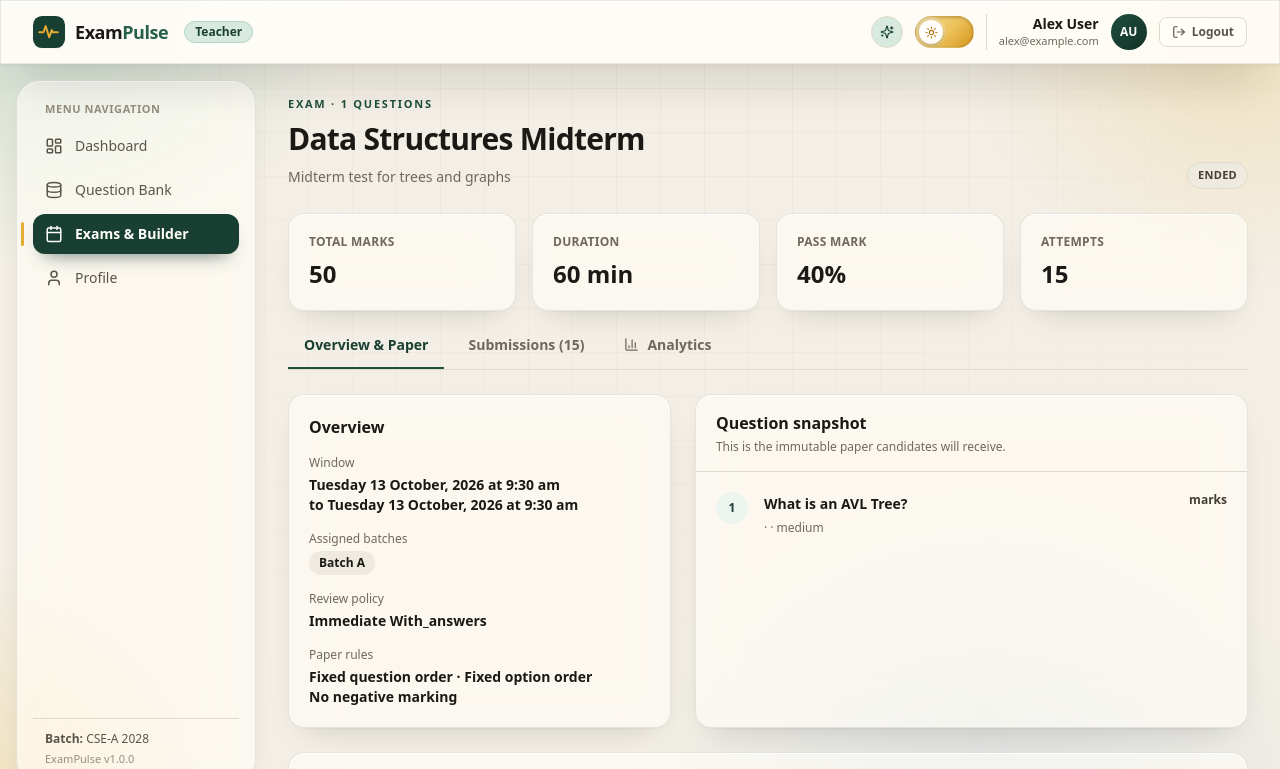
Test: Phase 9: Analytics Dashboards Frontend › 5. ExamDetailPage renders Analytics tab with score distribution, pass rate donut, and question stats
expect the heading "Data Structures Midterm" is shown: met, box 288,120 -> 645,156
Note: Click Analytics tab
Step 1. Click the button "Analytics" → x=668, y=352, box 608,334 -> 728,368
(page scrolled)
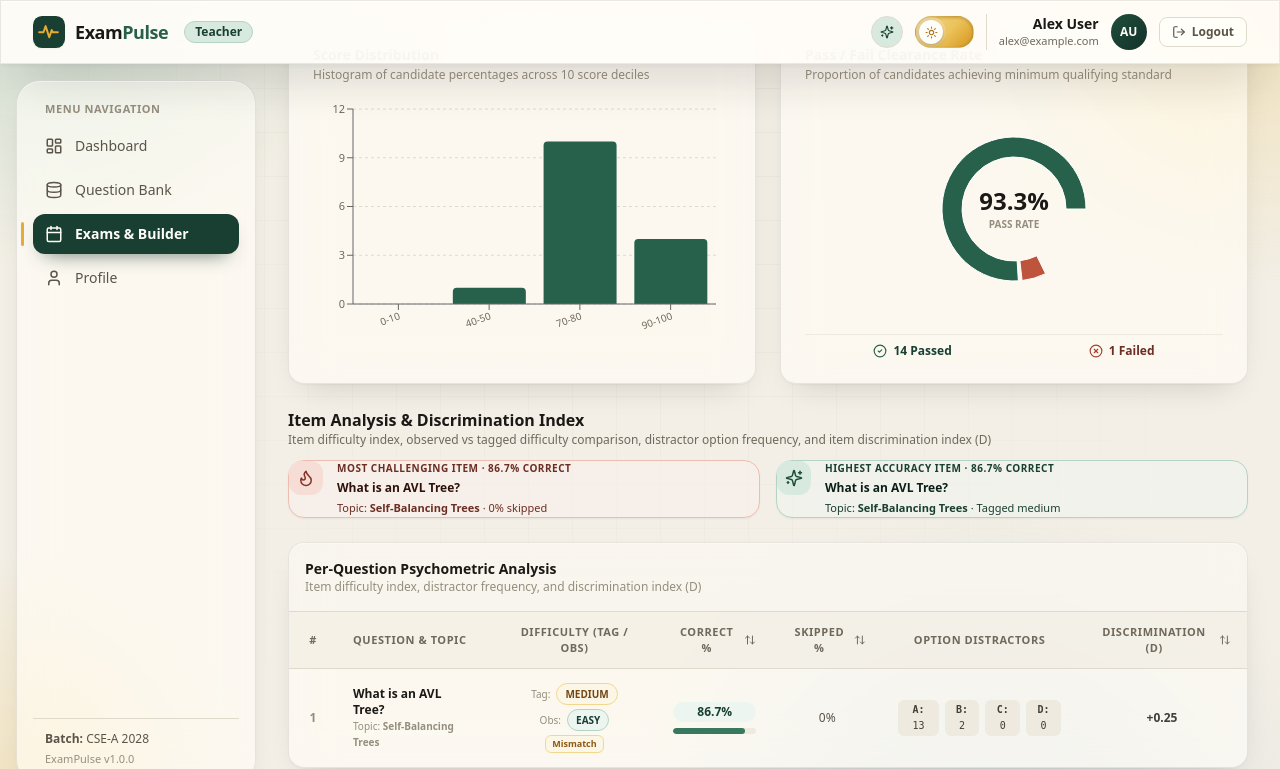
expect the text "Mismatch" is shown: met, box 545,734 -> 604,752
